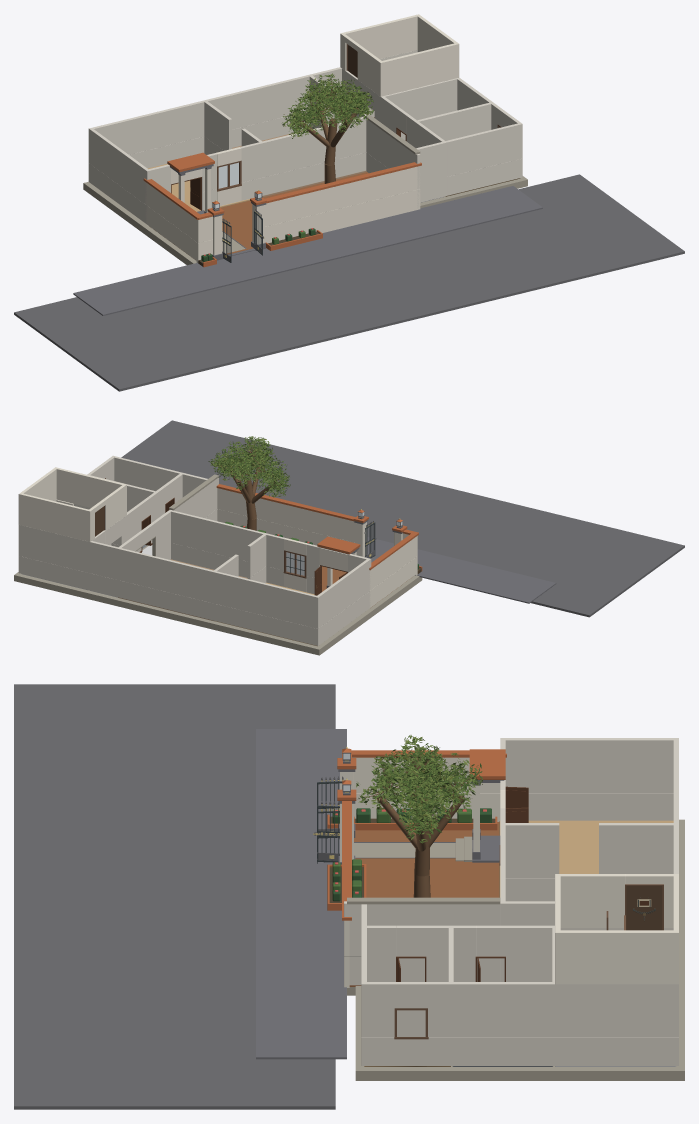
The model's file is map-tho.fbx.
The picture shows the model from 3 angles, top to bottom: view 1: azimuth 30°, elevation 25°; view 2: azimuth 150°, elevation 25°; view 3: azimuth 270°, elevation 25°; orthographic projection. The views are drawn at different scales.
Visible parts, largest first — view 1: Street_Asphalt_Road, Street_Sidewalk_Outside, Rear upper, Front living upper.002, Garden south upper.001, Garden south lower.001, Hanh front upper, Wall_Stair_Tower_South, Left upper, Rear lower, Front living lower.002, Wall_Stair_Tower_North (+23 smaller); view 2: Street_Asphalt_Road, Rear upper, Rear lower, Street_Sidewalk_Outside, Foundation main block, Front living upper.002, Garden south upper.001, Wall_Stair_Tower_North, Left upper, Wall_Stair_Tower_South, Hanh front upper, Front living lower.002 (+26 smaller); view 3: Street_Asphalt_Road, Street_Sidewalk_Outside, East upper, Left upper, East lower, Wall_Stair_Tower_East, Courtyard, Foundation main block, Left lower, Living dining upper.001, Courtyard hall SOLID upper, Wall_Stair_Tower_West_South (+31 smaller).
Boxes of the visible parts, x1,y1,x2,y2 form: Street_Asphalt_Road: [14, 174, 684, 391]; Street_Sidewalk_Outside: [73, 186, 541, 314]; Rear upper: [89, 50, 417, 154]; Front living upper.002: [240, 116, 366, 182]; Garden south upper.001: [264, 166, 420, 226]; Garden south lower.001: [264, 189, 420, 243]; Hanh front upper: [445, 123, 522, 176]; Wall_Stair_Tower_South: [379, 43, 457, 96]; Left upper: [88, 128, 150, 203]; Rear lower: [88, 107, 339, 182]; Front living lower.002: [241, 152, 366, 200]; Wall_Stair_Tower_North: [340, 14, 420, 65]; Street_Asphalt_Road: [121, 420, 684, 617]; Rear upper: [18, 525, 319, 628]; Rear lower: [18, 556, 319, 645]; Street_Sidewalk_Outside: [367, 537, 555, 603]; Foundation main block: [14, 572, 374, 655]; Front living upper.002: [171, 510, 285, 570]; Garden south upper.001: [217, 488, 355, 542]; Wall_Stair_Tower_North: [18, 493, 91, 541]; Left upper: [315, 558, 371, 628]; Wall_Stair_Tower_South: [56, 468, 126, 507]; Hanh front upper: [114, 456, 180, 491]; Front living lower.002: [171, 543, 283, 586]; Street_Asphalt_Road: [14, 684, 335, 1109]; Street_Sidewalk_Outside: [258, 729, 346, 1059]; East upper: [361, 982, 678, 1036]; Left upper: [500, 738, 678, 792]; East lower: [367, 1037, 678, 1065]; Wall_Stair_Tower_East: [555, 930, 678, 984]; Courtyard: [349, 822, 499, 986]; Foundation main block: [499, 819, 684, 1080]; Left lower: [528, 793, 673, 820]; Living dining upper.001: [599, 823, 678, 873]; Courtyard hall SOLID upper: [344, 901, 500, 956]; Wall_Stair_Tower_West_South: [555, 874, 625, 927].
Size of what is drawn, in the model's own units: 3600 by 842 by 2419.
